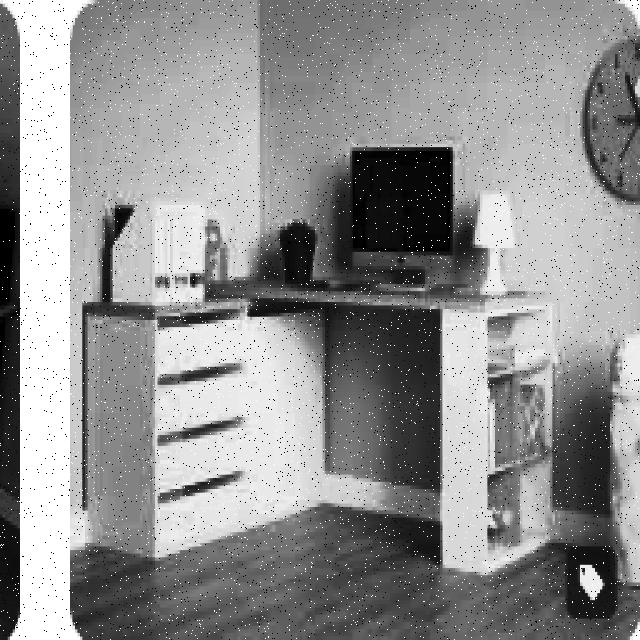table: (85, 277, 560, 572)
